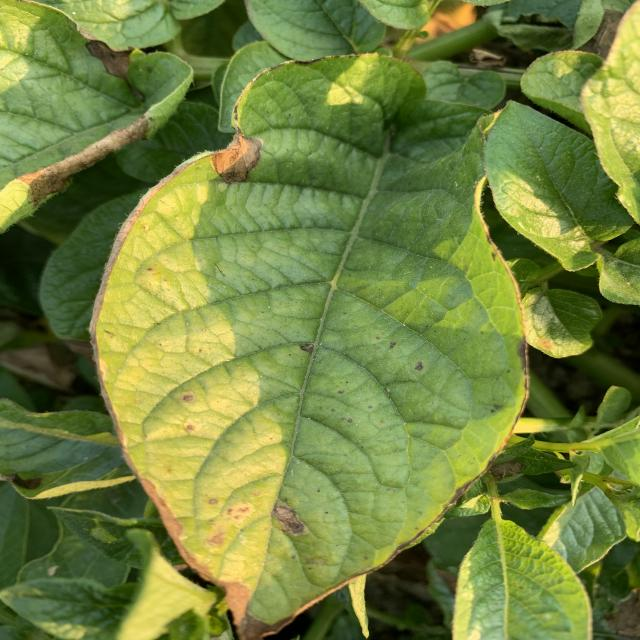lateblight: (187, 559, 333, 640), (212, 131, 262, 182), (242, 516, 277, 535)
